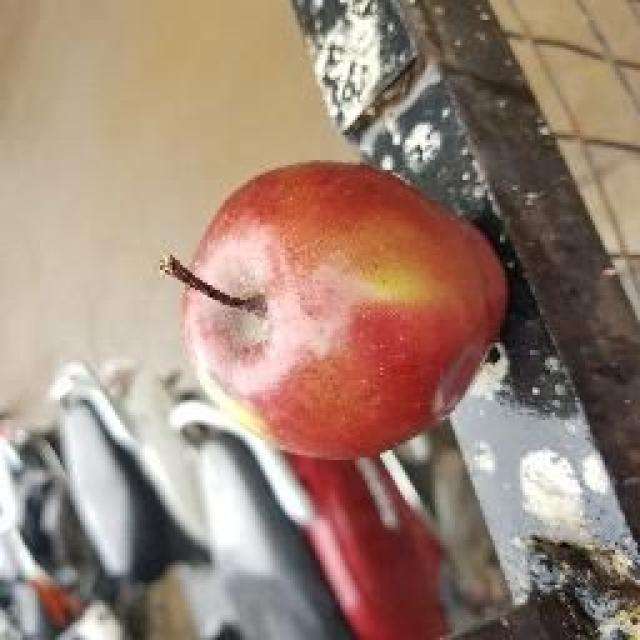Good_Apple: (162, 160, 510, 468)
